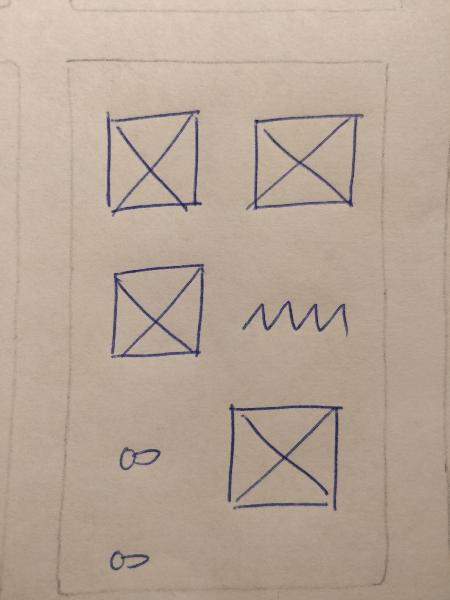image: (218, 395, 349, 522), (240, 104, 370, 222), (93, 105, 210, 216), (103, 258, 210, 364)
switch: (101, 434, 173, 479), (97, 537, 164, 579)
text: (230, 287, 361, 346)
